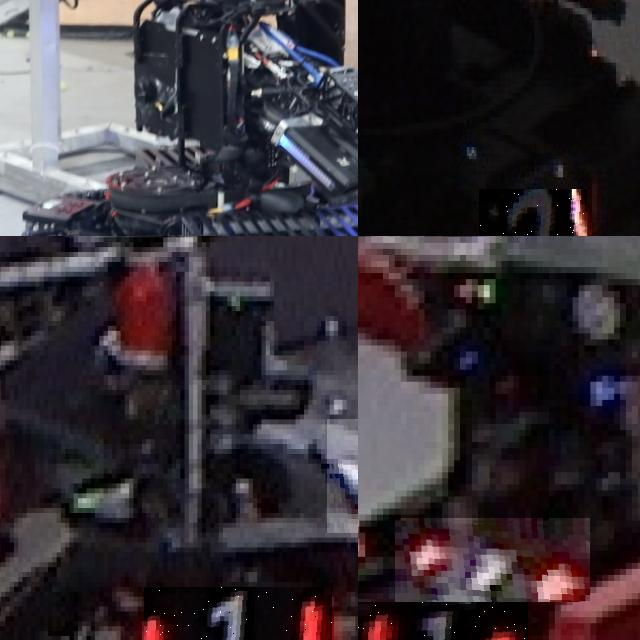R1: (395, 518, 590, 602), (144, 586, 331, 640), (358, 602, 528, 640), (327, 419, 358, 532)
R2: (478, 189, 587, 236)
